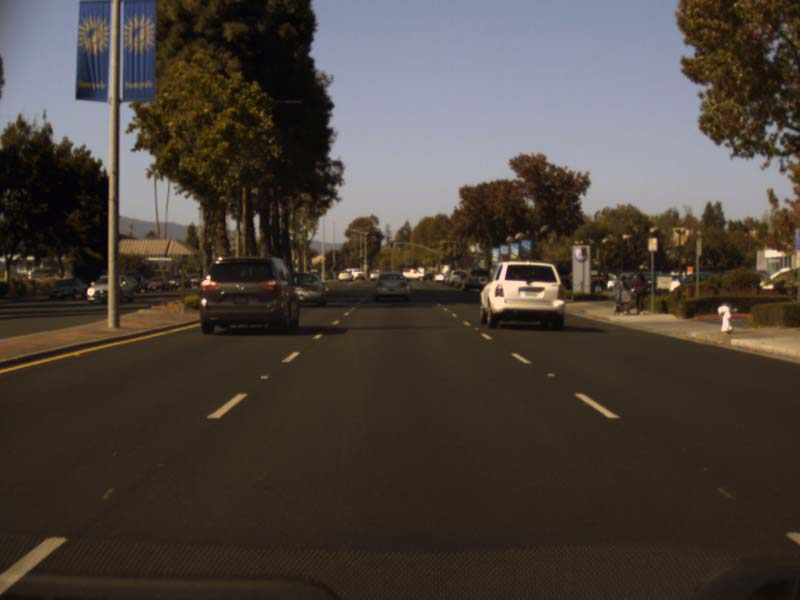Red: (332, 264, 336, 270)
